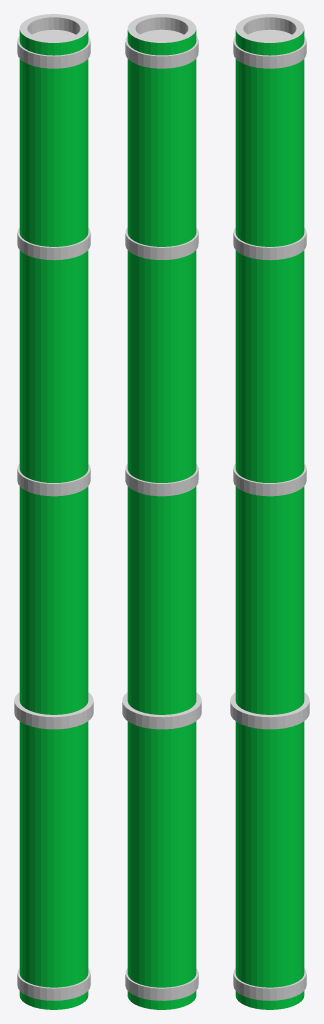
The picture shows the model from 3 angles, left to right: view 1: azimuth 90°, elevation 25°; view 2: azimuth 150°, elevation 25°; view 3: azimuth 270°, elevation 25°; orthographic projection.
Parts seen in each view (by area): view 1: 竹, 節.003, 節, 節.004, 節.001, 節.002; view 2: 竹, 節.003, 節, 節.004, 節.001, 節.002; view 3: 竹, 節.003, 節, 節.004, 節.001, 節.002.
Boxes of the visible parts, bbox=[...] form: 竹: bbox=[19, 14, 88, 1009]; 節.003: bbox=[17, 29, 90, 68]; 節: bbox=[14, 692, 93, 729]; 節.004: bbox=[17, 968, 90, 1000]; 節.001: bbox=[17, 464, 90, 496]; 節.002: bbox=[17, 228, 90, 260]; 竹: bbox=[127, 14, 196, 1009]; 節.003: bbox=[125, 29, 198, 68]; 節: bbox=[122, 692, 201, 729]; 節.004: bbox=[125, 968, 198, 1000]; 節.001: bbox=[125, 463, 198, 496]; 節.002: bbox=[125, 227, 198, 259]; 竹: bbox=[235, 14, 304, 1009]; 節.003: bbox=[233, 29, 306, 68]; 節: bbox=[230, 692, 309, 729]; 節.004: bbox=[233, 968, 306, 1000]; 節.001: bbox=[233, 464, 306, 496]; 節.002: bbox=[233, 228, 306, 260].
Size of the model in its own units: 107 by 1439 by 107.
